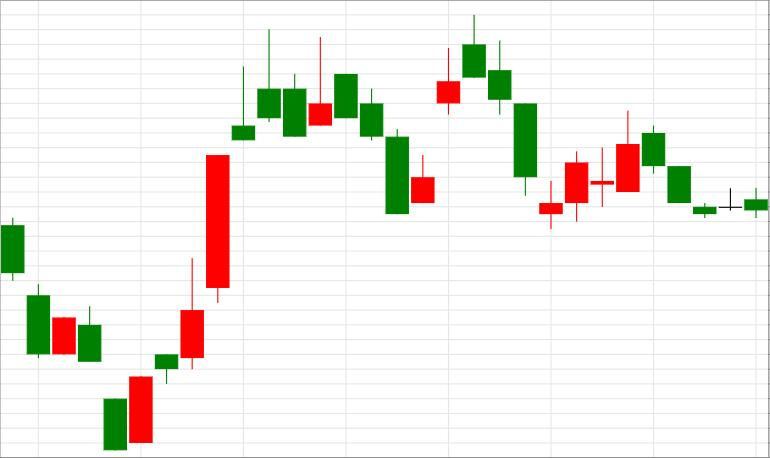shooting_star_fall: (130, 30, 280, 443)
